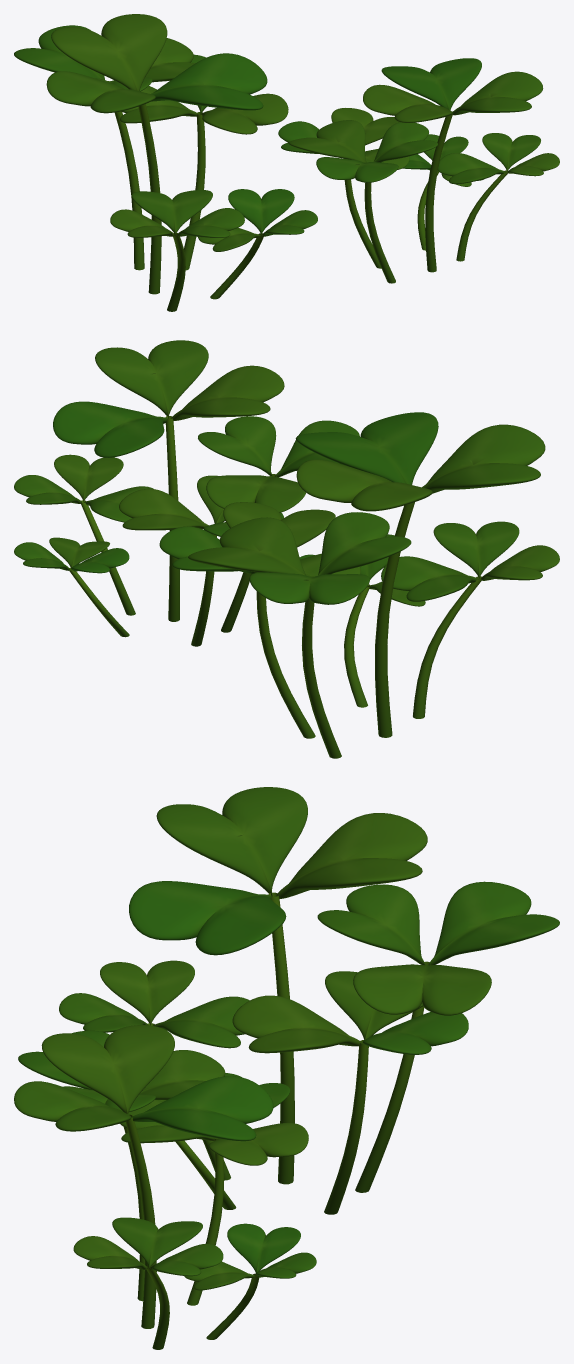
Rendered from painted_clover.glb.
3 renders of one model, top to bottom at view 1: azimuth 30°, elevation 25°; view 2: azimuth 150°, elevation 25°; view 3: azimuth 270°, elevation 25°, orthographic. The views are drawn at different scales.
Parts seen in each view (by area): view 1: SM_Painted_Clover; view 2: SM_Painted_Clover; view 3: SM_Painted_Clover.
Boxes of the visible parts, x1,y1,x2,y2 form: SM_Painted_Clover: (14,14,559,311); SM_Painted_Clover: (14,340,559,758); SM_Painted_Clover: (14,787,559,1349).
Size of the model in its own units: 0.6052 by 0.3024 by 0.4592.
